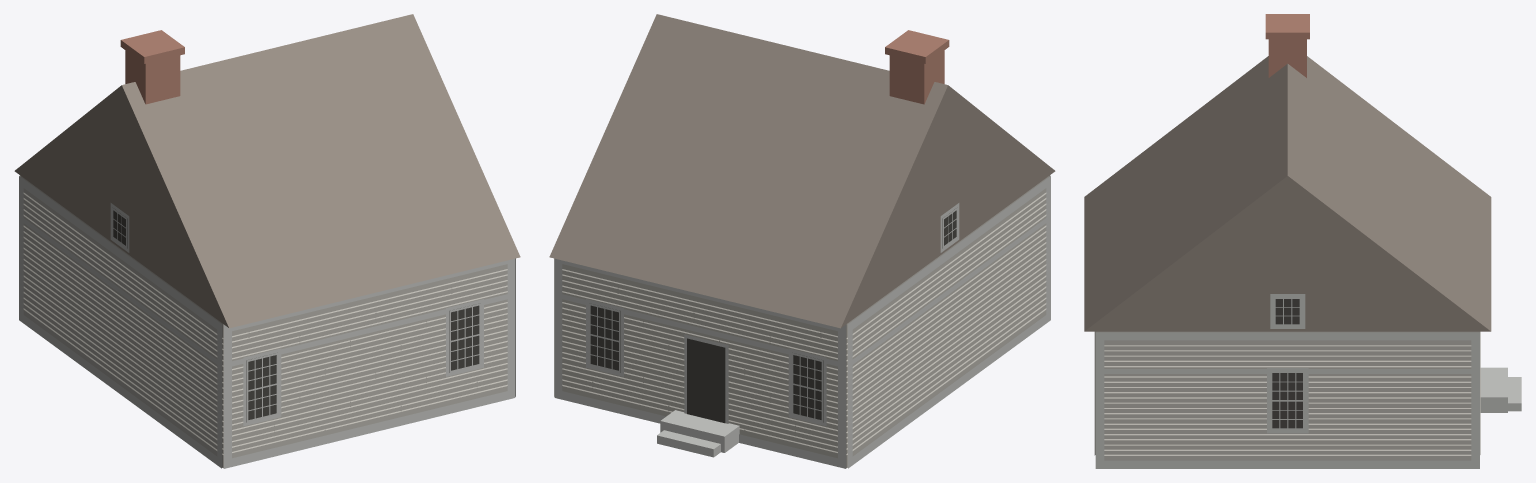
File: recon_1835_blk_school_section_tier_81_d6_01__inferred_1835.glb
The picture shows the model from 3 angles, left to right: view 1: azimuth 30°, elevation 25°; view 2: azimuth 150°, elevation 25°; view 3: azimuth 270°, elevation 25°; orthographic projection. The views are drawn at different scales.
Parts seen in each view (by area): view 1: recon_1835_blk_school_section_tier_81_d6_01__inferred_1835; view 2: recon_1835_blk_school_section_tier_81_d6_01__inferred_1835; view 3: recon_1835_blk_school_section_tier_81_d6_01__inferred_1835.
Boxes of the visible parts, x1,y1,x2,y2 form: recon_1835_blk_school_section_tier_81_d6_01__inferred_1835: (14, 14, 520, 468); recon_1835_blk_school_section_tier_81_d6_01__inferred_1835: (549, 14, 1055, 468); recon_1835_blk_school_section_tier_81_d6_01__inferred_1835: (1084, 14, 1521, 468).
Bounding box in the file's own units: 7.12 × 7.89 × 9.63.
